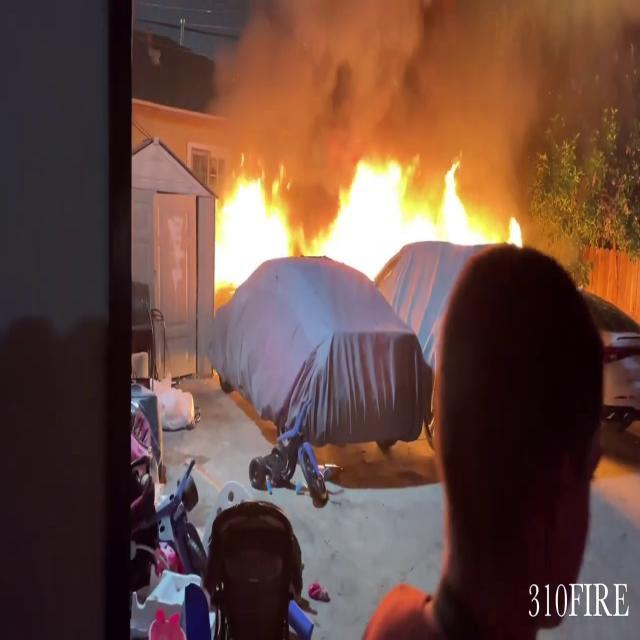Fire: (204, 136, 486, 294)
Smoke: (196, 0, 624, 150)
